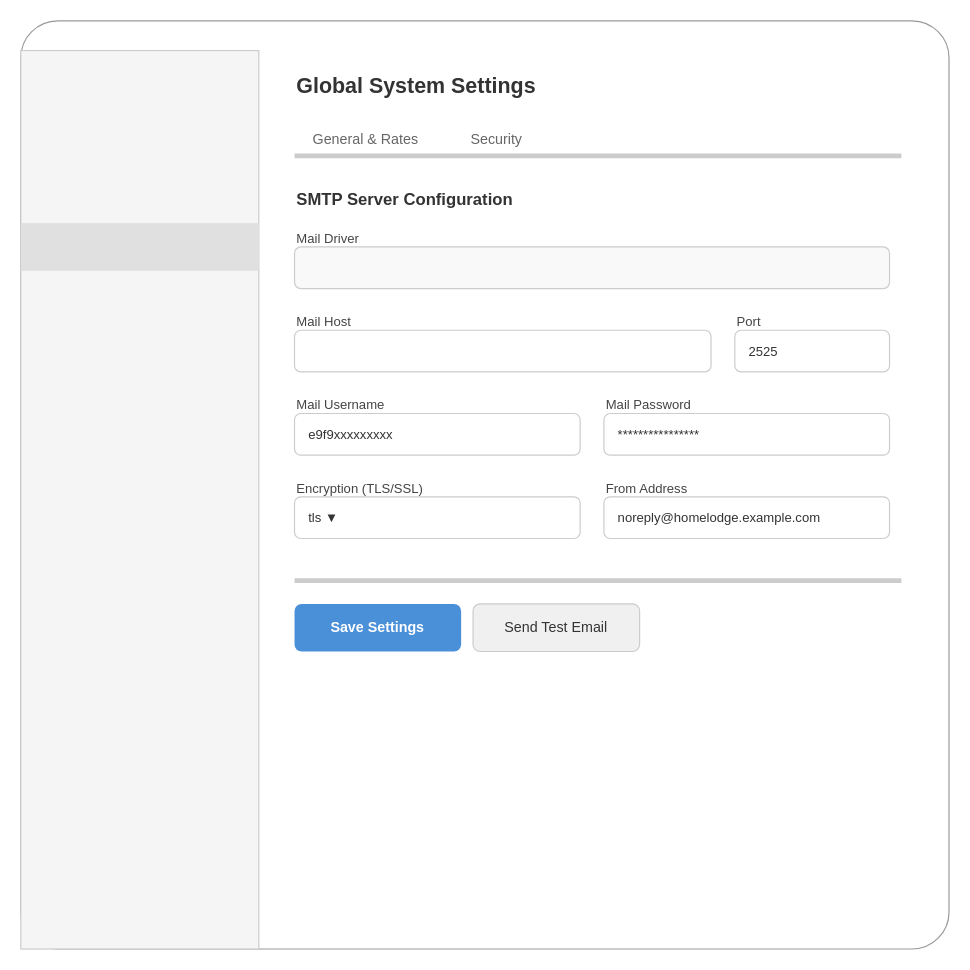
Image size: 970x970. Some labels were removed from this diagram. The centre of each missing label's shape, as x and y in pixels:
"Email (SMTP)" goes at (615,139).
"SMTP" goes at (591,267).
"smtp.mailtrap.io" goes at (502,350).
"System Settings" goes at (139,246).
